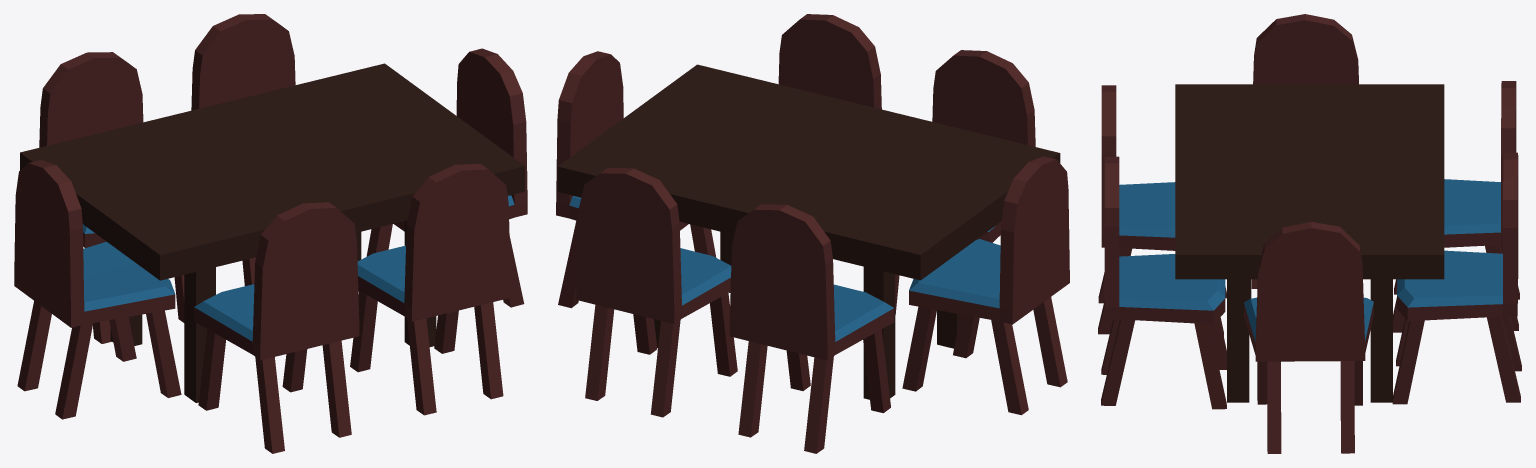
Rendered from Table.fbx.
The picture shows the model from 3 angles, left to right: view 1: azimuth 30°, elevation 25°; view 2: azimuth 150°, elevation 25°; view 3: azimuth 270°, elevation 25°; orthographic projection. The views are drawn at different scales.
Visible parts, largest first — view 1: Cube, Cube.001, Cube.002, Cube.005, Cube.003, Cube.004, Cube.006; view 2: Cube, Cube.003, Cube.004, Cube.005, Cube.001, Cube.006, Cube.002; view 3: Cube, Cube.006, Cube.002, Cube.004, Cube.005, Cube.001, Cube.003.
Boxes of the visible parts, left/top/right/bottom form: Cube: left=20, top=63, right=524, bottom=402; Cube.001: left=194, top=202, right=359, bottom=453; Cube.002: left=350, top=164, right=510, bottom=415; Cube.005: left=14, top=160, right=181, bottom=419; Cube.003: left=39, top=52, right=184, bottom=343; Cube.004: left=191, top=14, right=295, bottom=285; Cube.006: left=366, top=48, right=527, bottom=307; Cube: left=557, top=64, right=1060, bottom=399; Cube.003: left=729, top=204, right=894, bottom=453; Cube.004: left=576, top=167, right=737, bottom=417; Cube.005: left=902, top=156, right=1069, bottom=415; Cube.001: left=895, top=50, right=1035, bottom=314; Cube.006: left=556, top=51, right=716, bottom=308; Cube.002: left=778, top=14, right=881, bottom=109; Cube: left=1175, top=84, right=1444, bottom=402; Cube.006: left=1244, top=222, right=1373, bottom=453; Cube.002: left=1101, top=156, right=1226, bottom=409; Cube.004: left=1392, top=152, right=1521, bottom=404; Cube.005: left=1251, top=14, right=1358, bottom=288; Cube.001: left=1098, top=85, right=1226, bottom=336; Cube.003: left=1393, top=81, right=1519, bottom=332.
Bounding box in the file's own units: 490 × 239 × 404.
